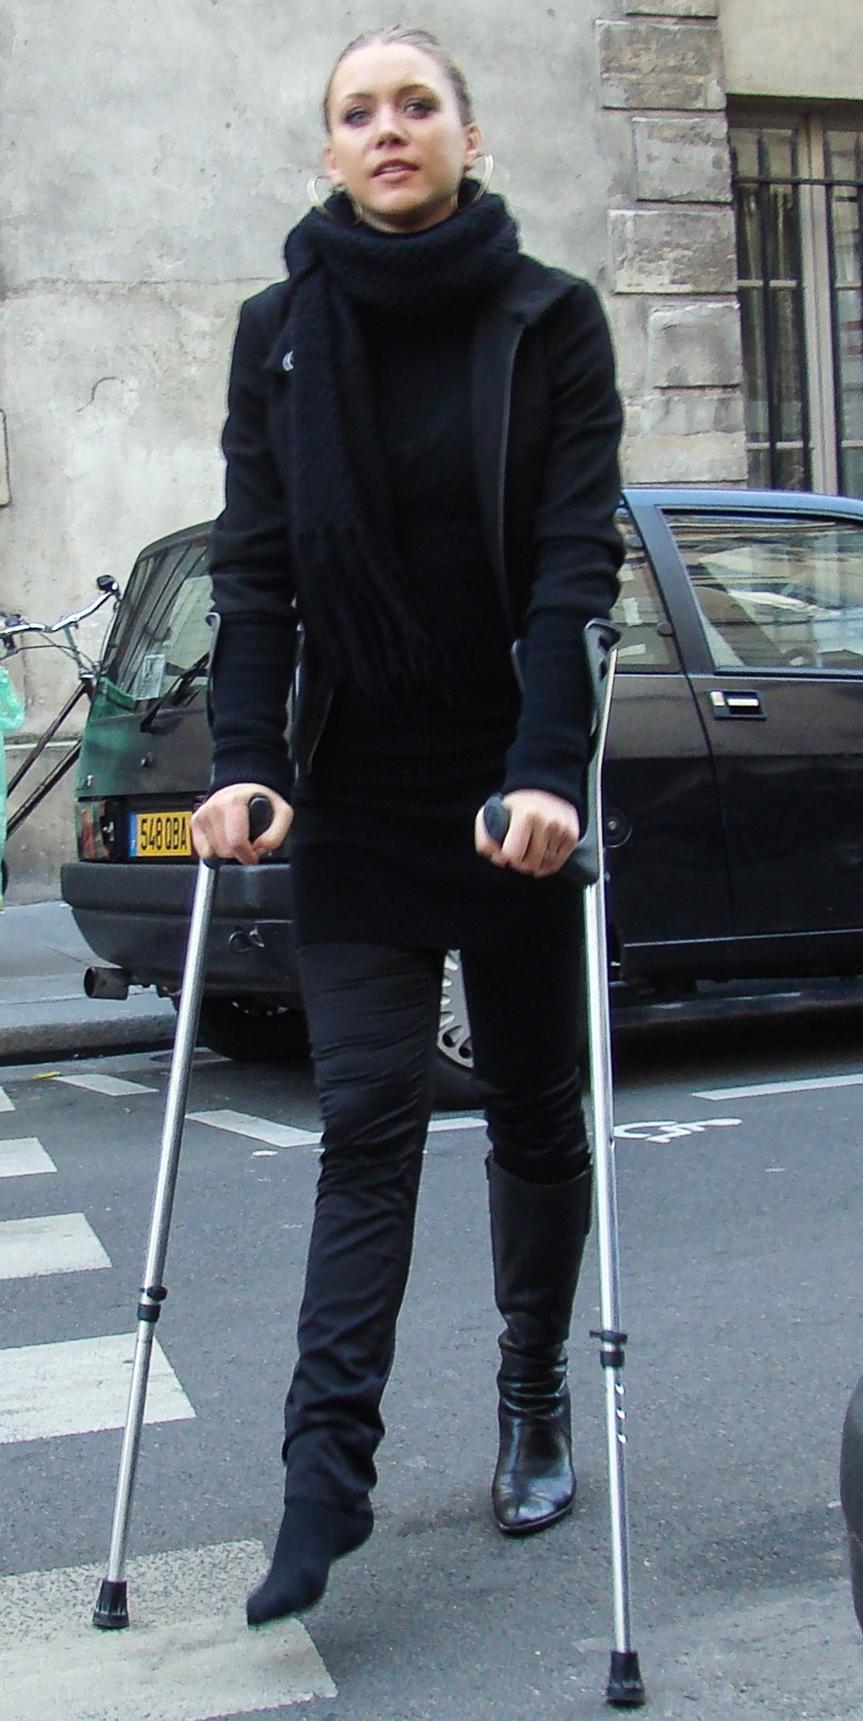crutches: (87, 12, 663, 1720)
